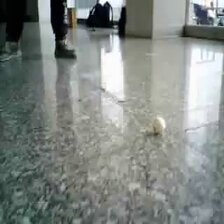w: (152, 116, 166, 133)
